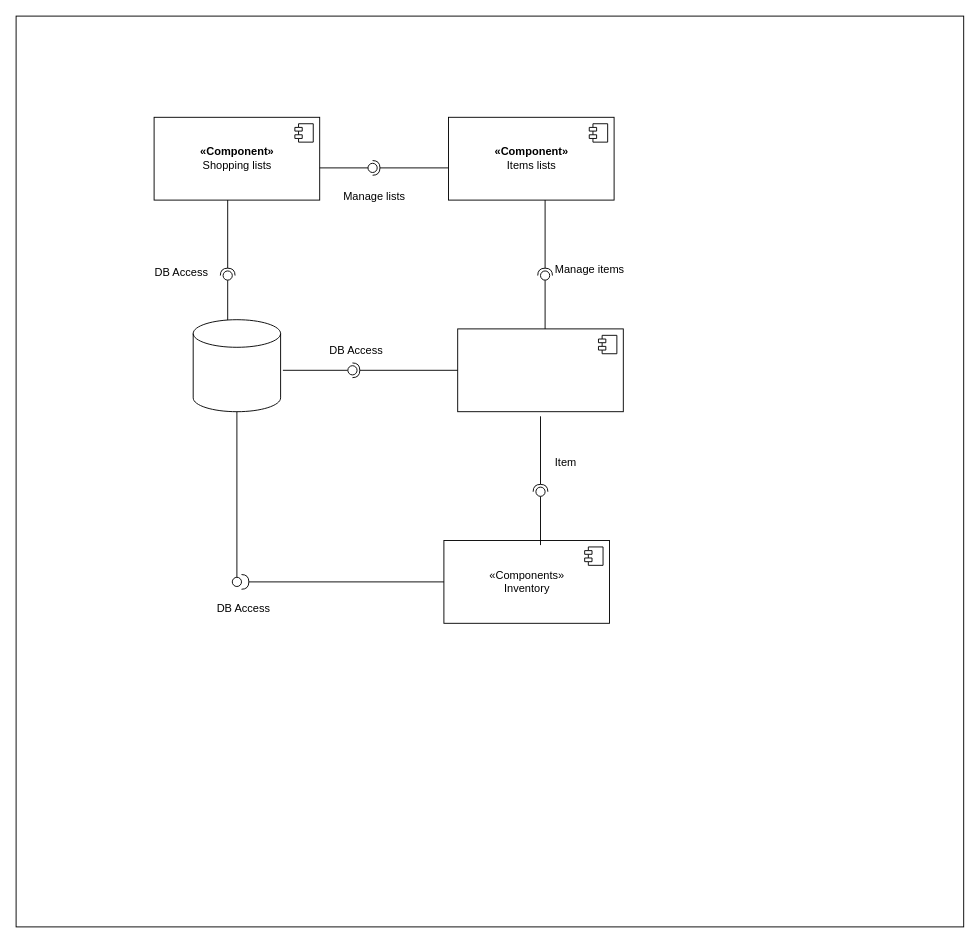
The diagram is 980 pixels wide and 943 high, and some of its shapes have lost their labels. Each missing label, with the centre of its shape:
"Sqlite DB" goes at pixel 236 365.
"«Component» Item" goes at pixel 540 370.
